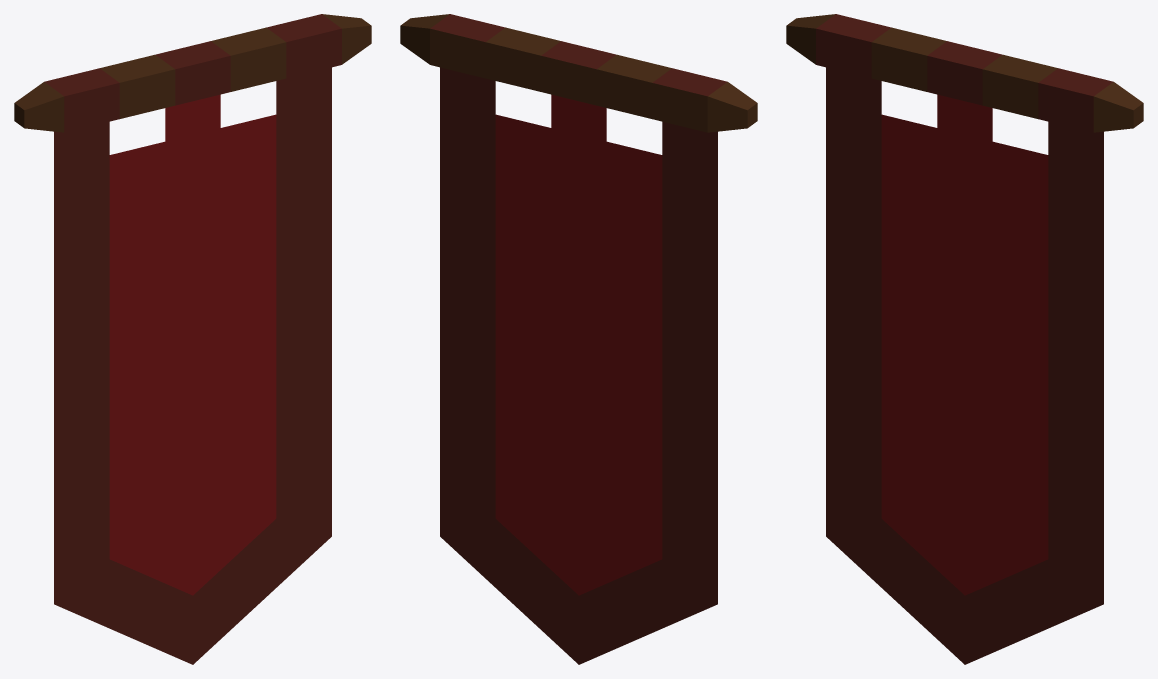
Rendered from banner2.fbx.
3 renders of one model, left to right at view 1: azimuth 30°, elevation 25°; view 2: azimuth 150°, elevation 25°; view 3: azimuth 330°, elevation 25°, orthographic.
Parts seen in each view (by area): view 1: banner_red; view 2: banner_red; view 3: banner_red.
Boxes of the visible parts, box(x1,y1,x2,y2) form: banner_red: box(14, 14, 371, 664); banner_red: box(400, 14, 757, 664); banner_red: box(786, 14, 1143, 664).
Bounding box in the file's own units: 5 × 8.39 × 0.5.
